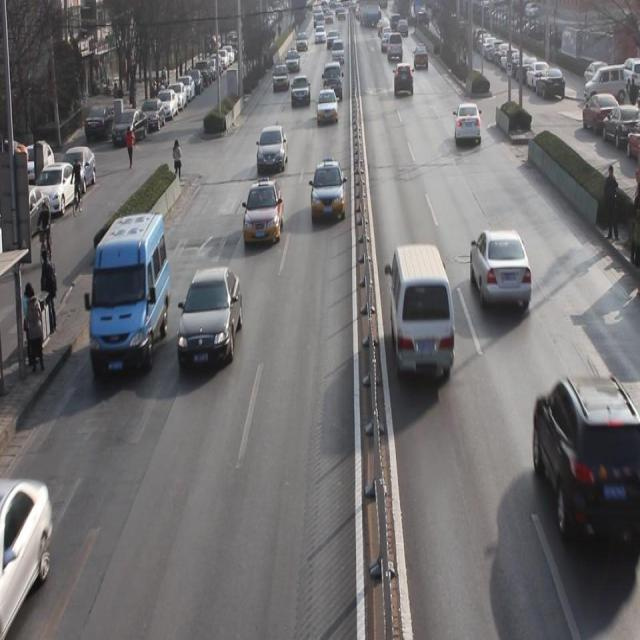car: (533, 372, 630, 546), (177, 268, 242, 366), (468, 228, 533, 314), (243, 178, 284, 250), (311, 160, 346, 223), (257, 126, 288, 174), (455, 100, 482, 146), (316, 87, 339, 126), (393, 57, 414, 99), (290, 75, 310, 108), (272, 60, 290, 94), (283, 46, 301, 73)
truck: (88, 214, 170, 377), (389, 244, 458, 382), (322, 61, 343, 99)
